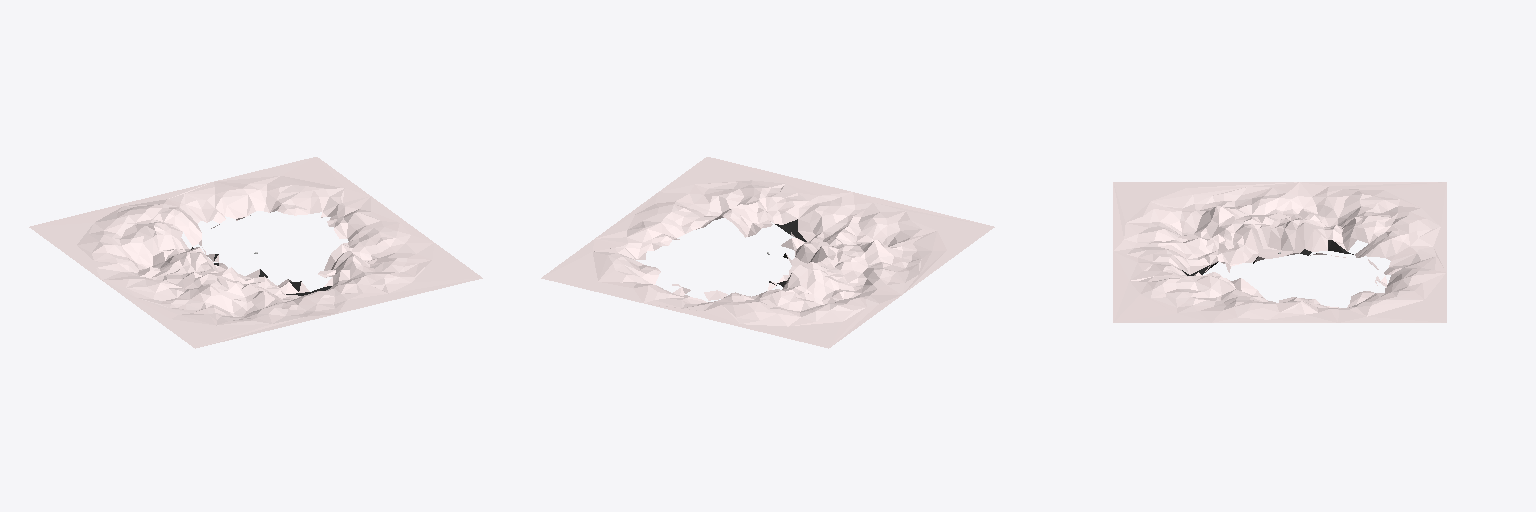
Rendered from Stage2Floor.obj.
3 views of the same model, side by side, from view 1: azimuth 30°, elevation 25°; view 2: azimuth 150°, elevation 25°; view 3: azimuth 270°, elevation 25° (orthographic).
Parts seen in each view (by area): view 1: Landscape.001; view 2: Landscape.001; view 3: Landscape.001.
Boxes of the visible parts, <box> form: Landscape.001: <box>29,157,482,348</box>; Landscape.001: <box>541,157,994,348</box>; Landscape.001: <box>1113,182,1446,322</box>.
Bounding box in the file's own units: 240 × 19.39 × 240.